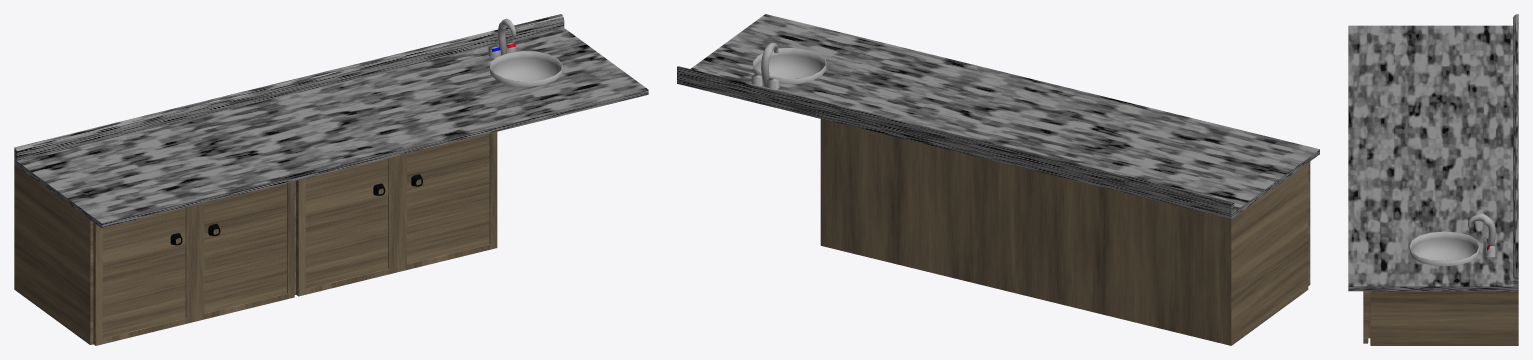
Rendered from GameJamCounter.fbx.
3 views of the same model, side by side, from view 1: azimuth 30°, elevation 25°; view 2: azimuth 150°, elevation 25°; view 3: azimuth 270°, elevation 25° (orthographic). The views are drawn at different scales.
Parts seen in each view (by area): view 1: Cube.004, Cupboard, Cupboard.001, Cube.005, Cylinder; view 2: Cube.004, Cupboard, Cupboard.001, Cube.005, Cylinder; view 3: Cube.004, Cupboard.001, Cube.005, Cylinder.
Part boxes in pixels (bbox=[...]): Cube.004: bbox=[14, 14, 648, 228]; Cupboard: bbox=[14, 164, 294, 345]; Cupboard.001: bbox=[294, 132, 497, 296]; Cube.005: bbox=[490, 51, 562, 86]; Cylinder: bbox=[488, 18, 516, 58]; Cube.004: bbox=[677, 14, 1319, 218]; Cupboard: bbox=[1026, 161, 1310, 345]; Cupboard.001: bbox=[820, 119, 1025, 295]; Cube.005: bbox=[753, 48, 826, 83]; Cylinder: bbox=[751, 43, 780, 89]; Cube.004: bbox=[1348, 14, 1518, 291]; Cupboard.001: bbox=[1363, 291, 1518, 345]; Cube.005: bbox=[1409, 231, 1479, 266]; Cylinder: bbox=[1468, 213, 1495, 256].
Bounding box in the file's own units: 579 × 171 × 160.
